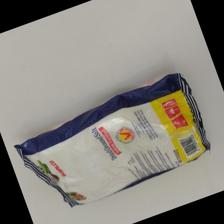Salt: (14, 72, 209, 213)
